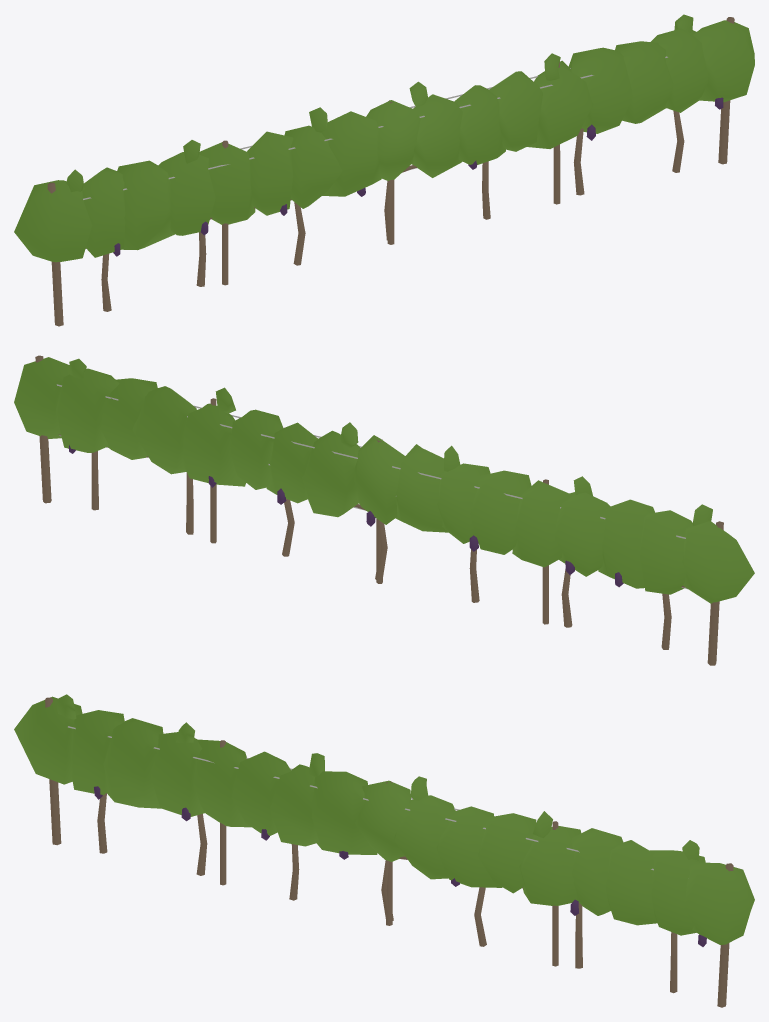
Rendered from Blender_GrapeVine_1.glb.
3 renders of one model, top to bottom at view 1: azimuth 30°, elevation 25°; view 2: azimuth 150°, elevation 25°; view 3: azimuth 330°, elevation 25°, orthographic.
Visible parts, largest first — view 1: Blender_GrapeVine_1; view 2: Blender_GrapeVine_1; view 3: Blender_GrapeVine_1.
Part boxes in pixels (x1,y1,x2,y2): Blender_GrapeVine_1: (14,14,754,326); Blender_GrapeVine_1: (14,355,754,665); Blender_GrapeVine_1: (14,694,754,1007).
Bounding box in the file's own units: 11.12 × 2.22 × 0.7672.
